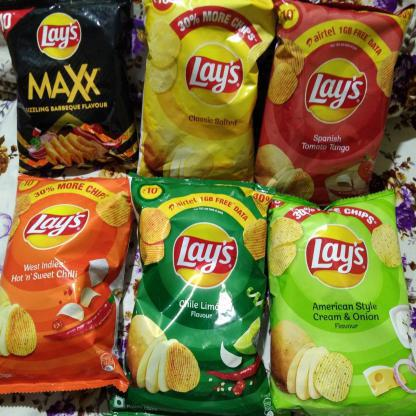chile_limon: (131, 176, 271, 415)
classicsalted: (144, 1, 269, 182)
cream_and_onion: (271, 191, 415, 413)
hot_and_sweet: (0, 180, 130, 393)
maxx_sizzling_barbeque: (5, 13, 130, 170)
tangy_tomato: (273, 7, 404, 192)
